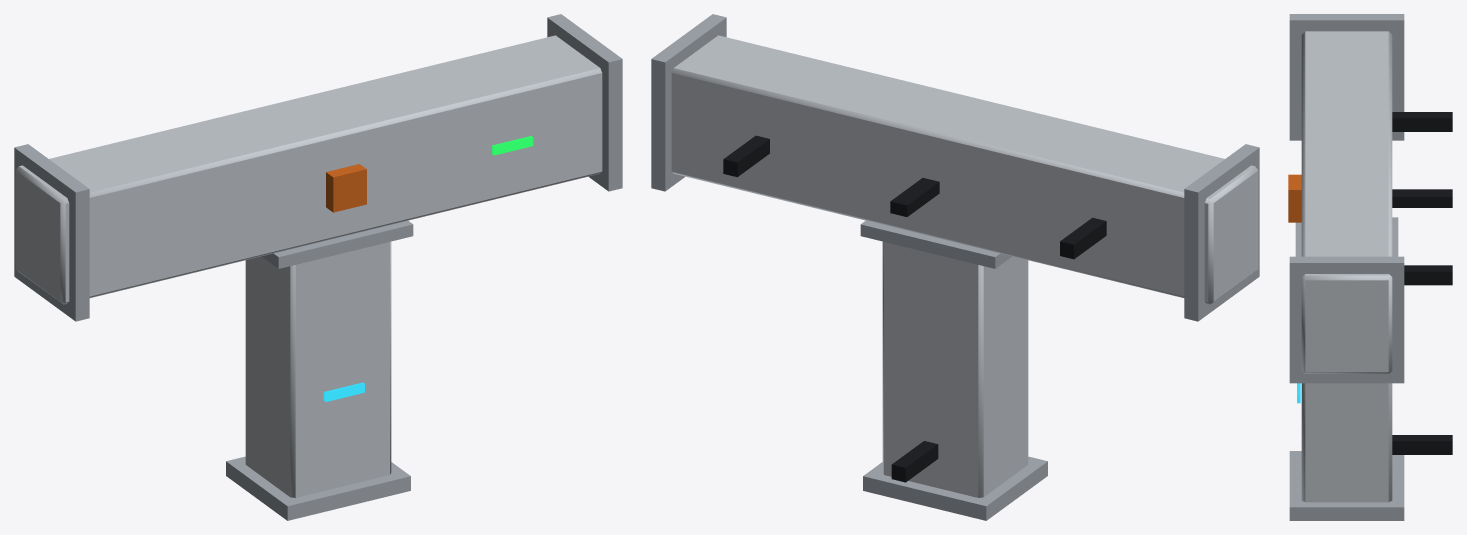
File: duct_tee_junction_duct.glb
The picture shows the model from 3 angles, left to right: view 1: azimuth 30°, elevation 25°; view 2: azimuth 150°, elevation 25°; view 3: azimuth 270°, elevation 25°; orthographic projection. The views are drawn at different scales.
Parts seen in each view (by area): view 1: duct_tee_junction_duct; view 2: duct_tee_junction_duct; view 3: duct_tee_junction_duct.
Boxes of the visible parts, left/top/right/bottom form: duct_tee_junction_duct: left=14, top=14, right=622, bottom=520; duct_tee_junction_duct: left=651, top=14, right=1259, bottom=520; duct_tee_junction_duct: left=1288, top=14, right=1452, bottom=520.
Size of the model in its own units: 2 by 1.3 by 0.545.
